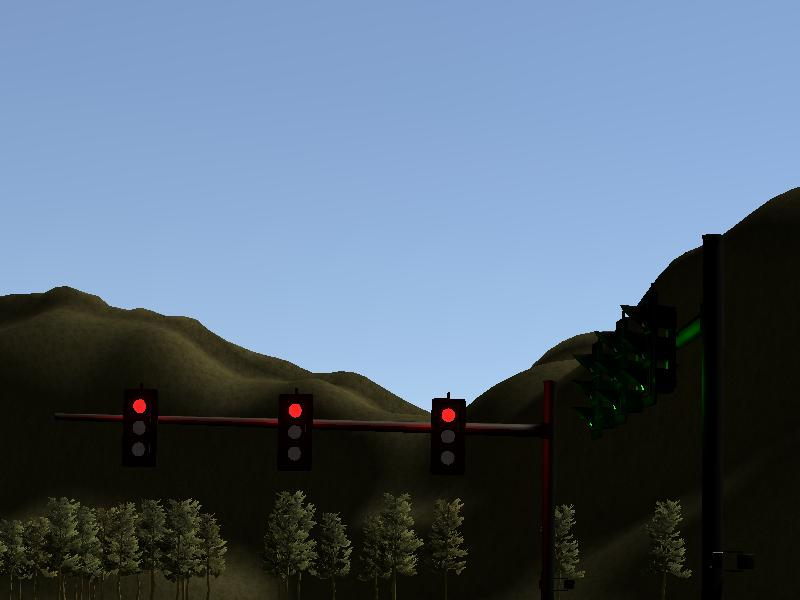Red: (123, 388, 156, 464), (279, 394, 312, 469), (432, 398, 462, 473)
